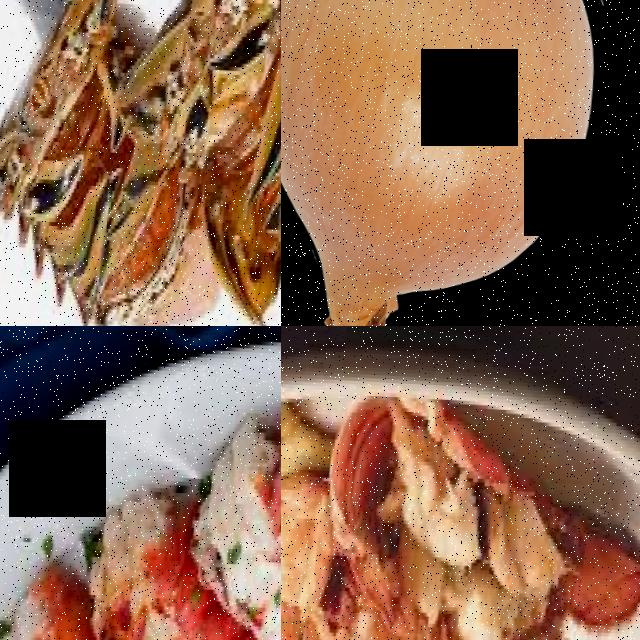lobster tails: (304, 397, 640, 640), (210, 403, 281, 640)
onion: (281, 0, 627, 325)
